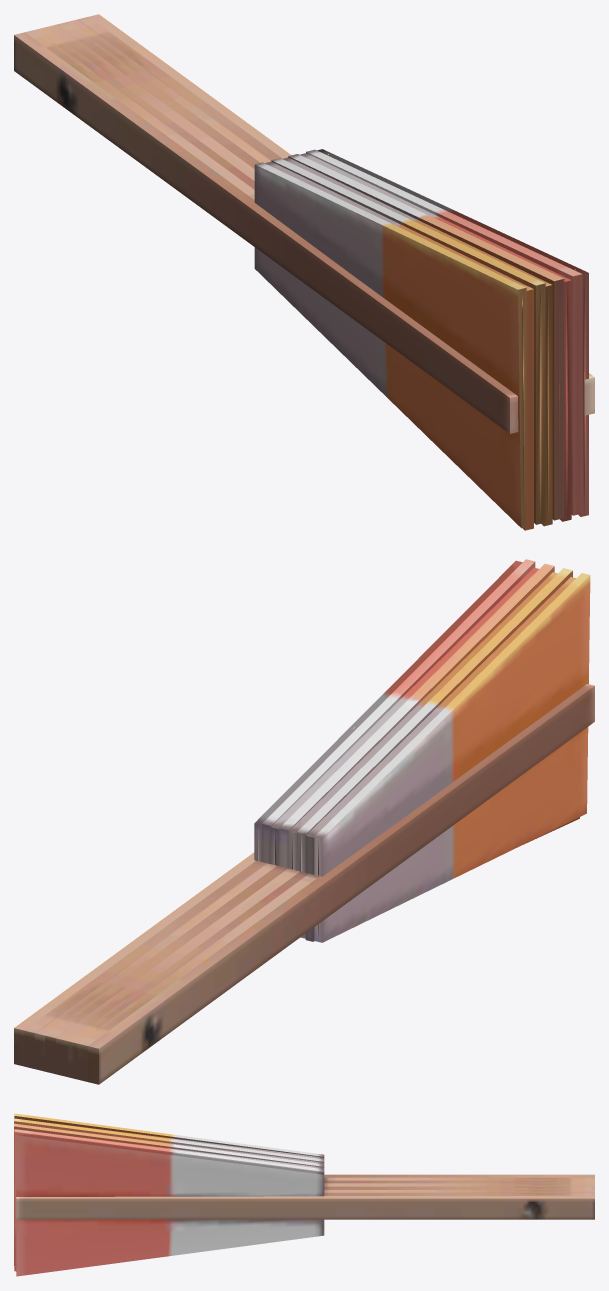
3 views of the same model, one above another, from view 1: azimuth 30°, elevation 25°; view 2: azimuth 150°, elevation 25°; view 3: azimuth 270°, elevation 25° (orthographic). The views are drawn at different scales.
Visible parts, largest first — view 1: mDagger; view 2: mDagger; view 3: mDagger.
Part boxes in pixels (x1,y1,x2,y2): mDagger: (14, 14, 594, 530); mDagger: (14, 559, 594, 1084); mDagger: (14, 1113, 594, 1276).
Bounding box in the file's own units: 0.0183 × 0.0504 × 0.186.
1 material, 1 textured.
